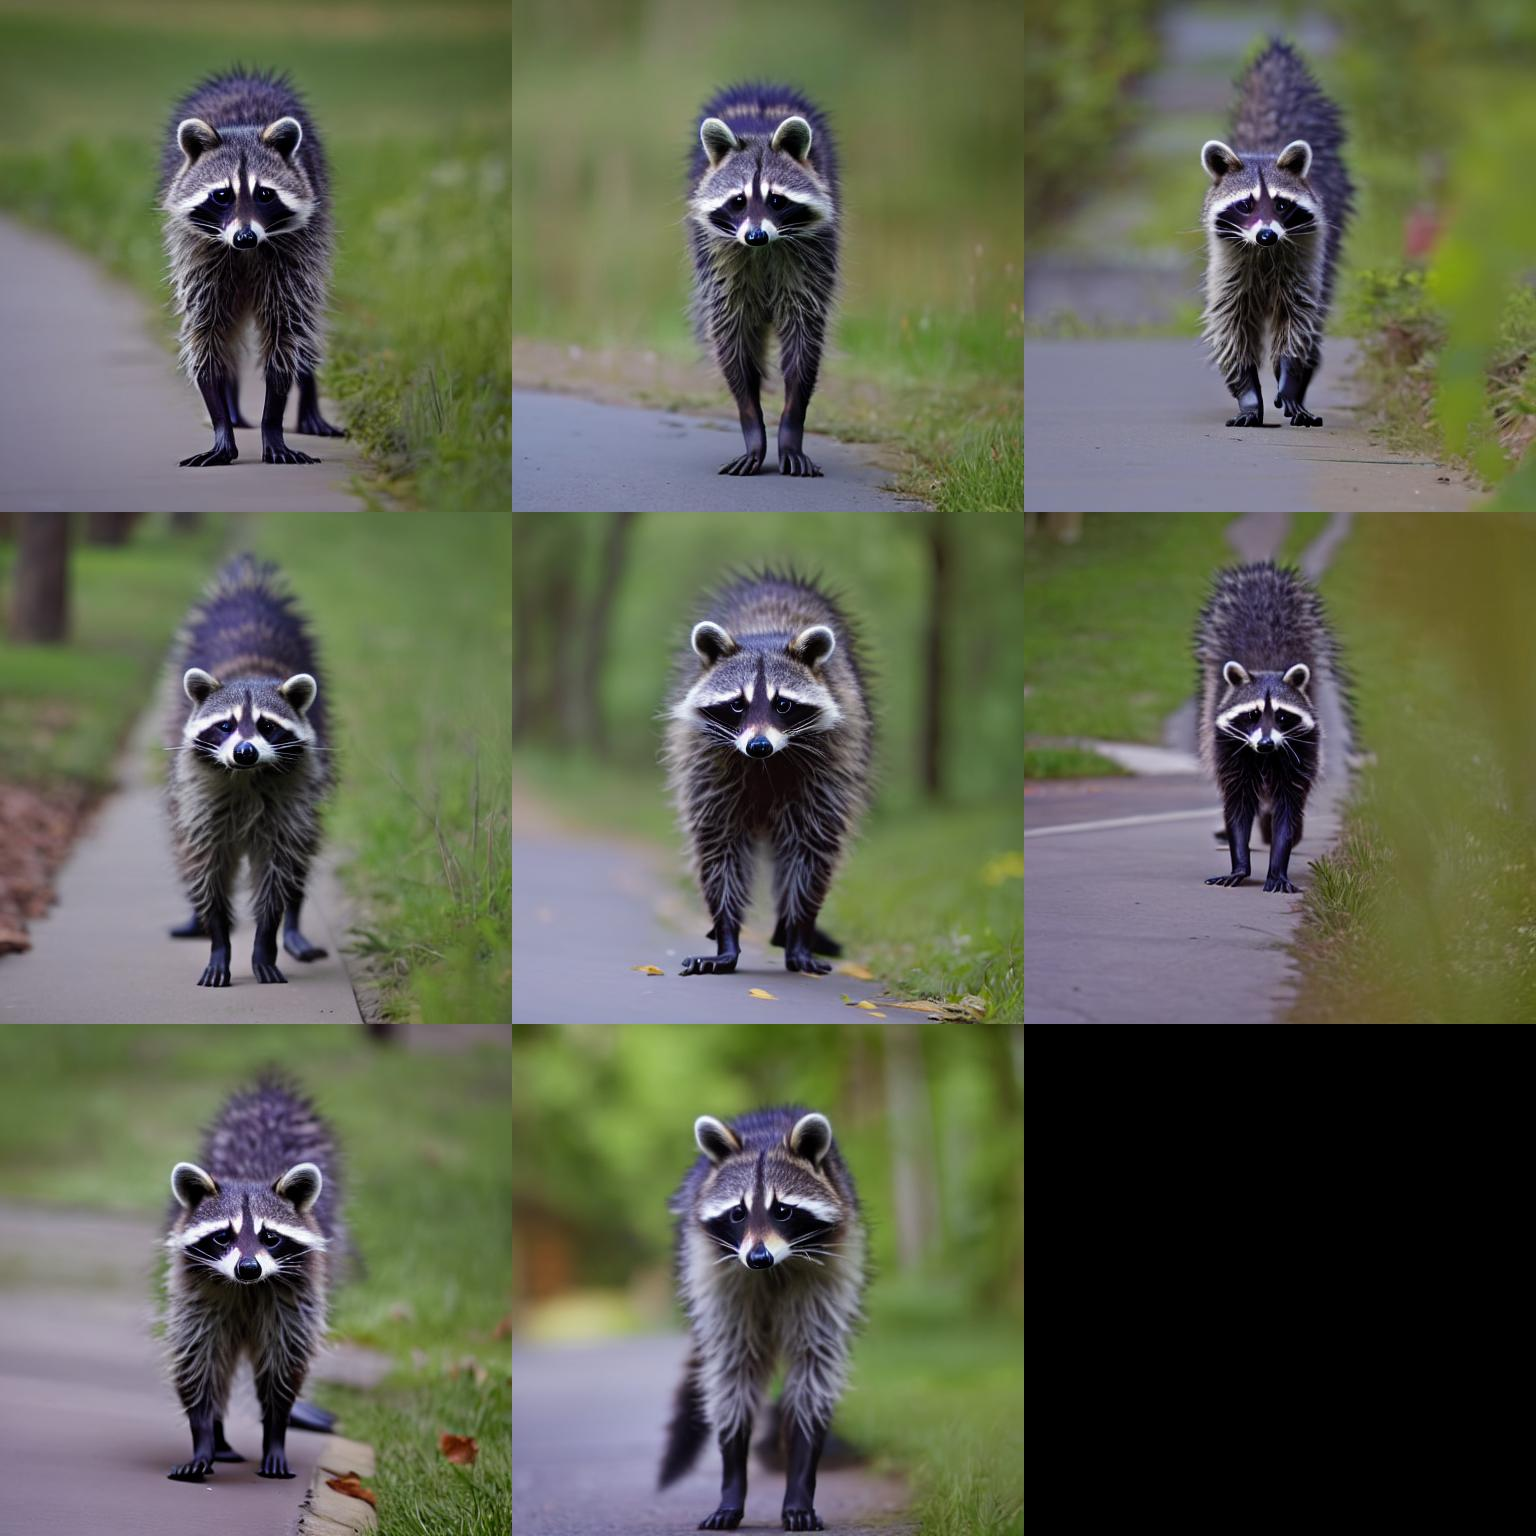raccoon: (658, 1099, 883, 1422), (664, 565, 878, 888), (139, 1100, 349, 1398), (149, 58, 346, 373), (151, 603, 342, 900), (678, 69, 854, 380), (1189, 122, 1342, 359), (1198, 601, 1335, 813)
